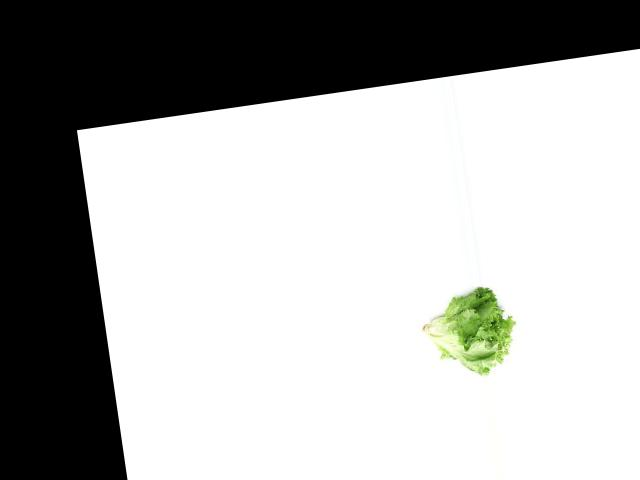lettuce: (416, 281, 520, 385)
